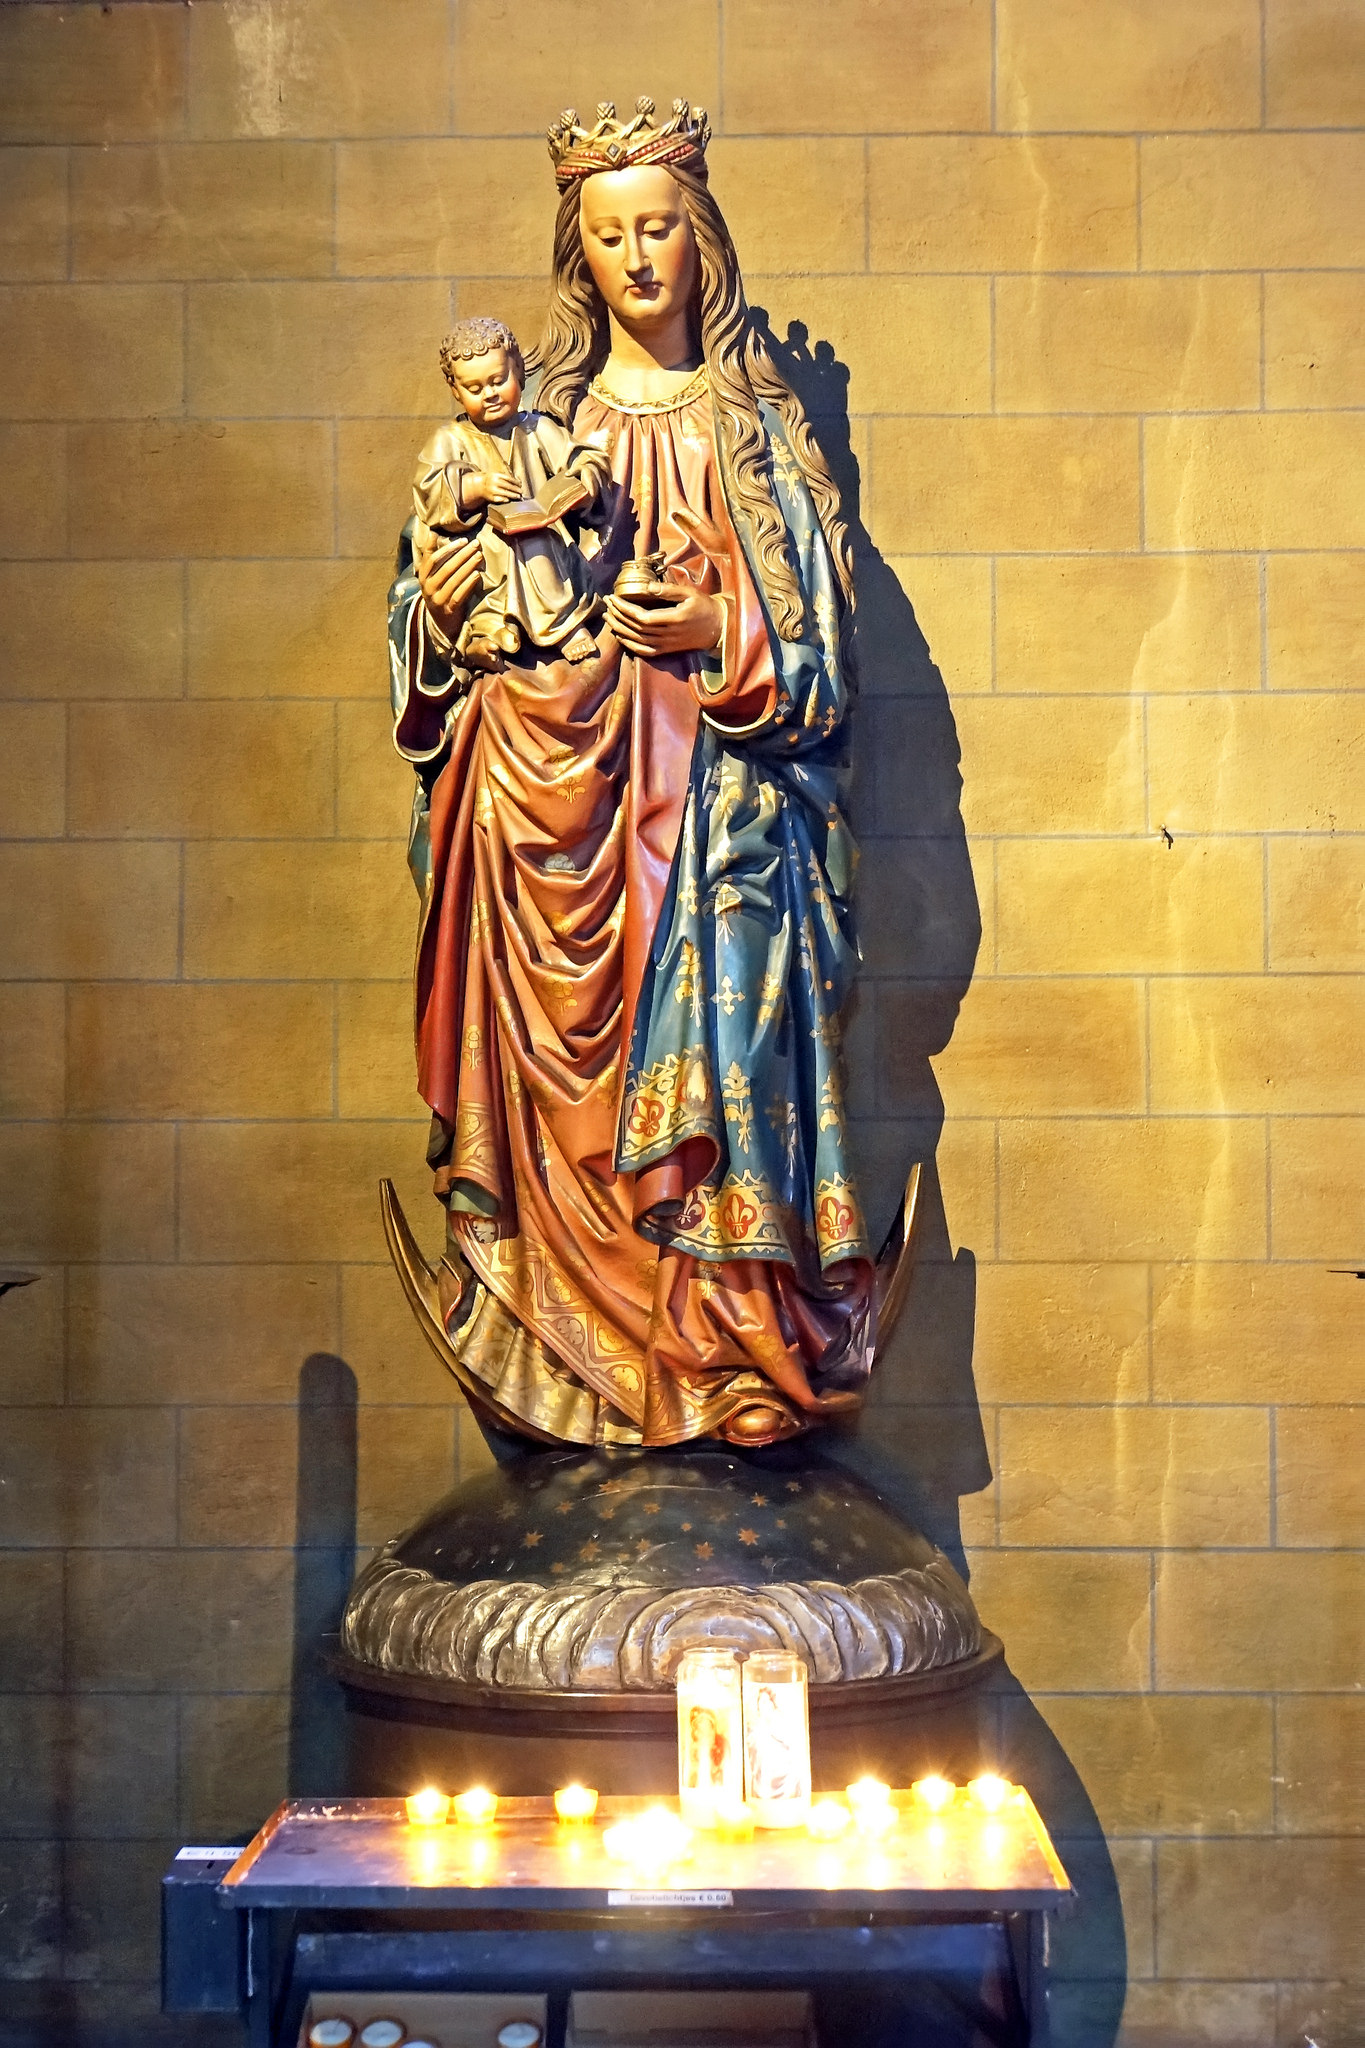person-like: (369, 90, 880, 1461), (398, 297, 629, 675)
